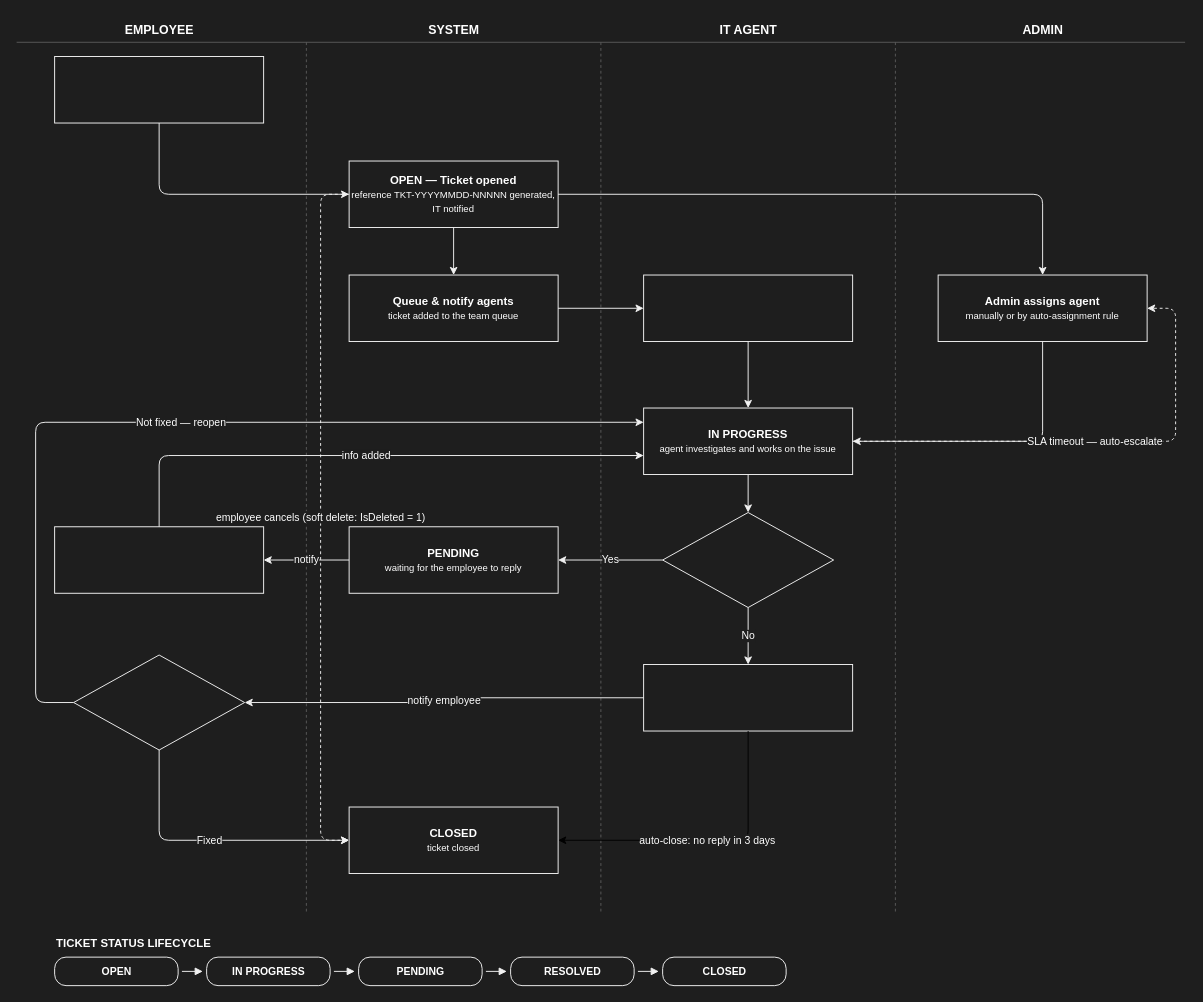
Some shapes in this 1203 by 1002 pixel diagram are drawn without their labels. The shapes that lost their labels are listed below. From the top down, each one's centre as x and y in pixels, then its label:
At [159,89]: "Create ticket details, category, priority, attachments".
At [748,308]: "Agent claims ticket takes ownership from the queue".
At [159,559]: "Employee replies adds the requested information".
At [748,560]: "More info needed?".
At [159,702]: "Issue fixed? employee verifies the solution".
At [748,697]: "RESOLVED agent posts the solution".
